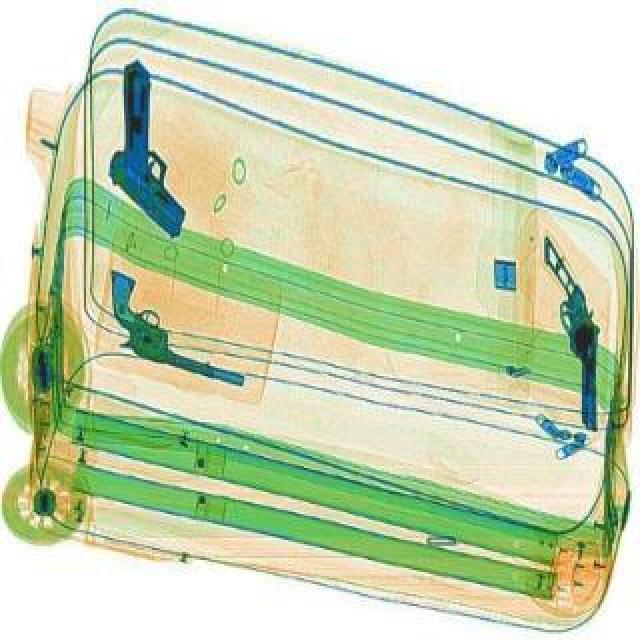gun: (82, 262, 270, 388), (92, 58, 188, 242), (536, 224, 620, 430)
